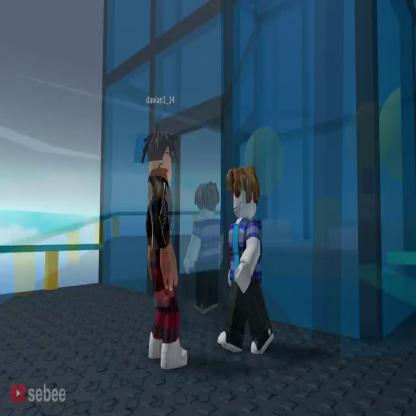Roblox-Avatar: (142, 126, 189, 371), (218, 167, 276, 356), (184, 181, 225, 315)
